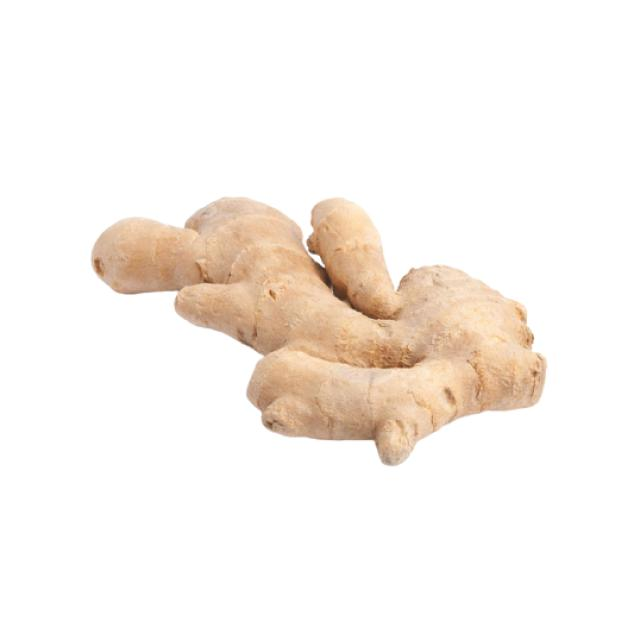ginger-root: (82, 163, 552, 518)
